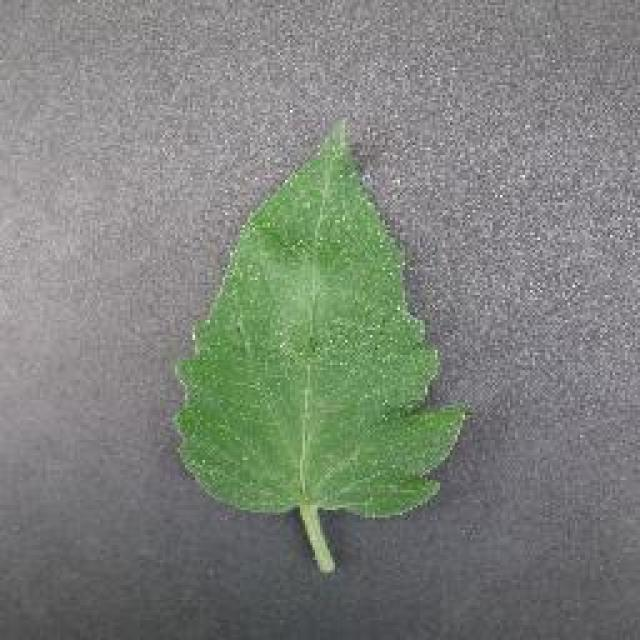Healthy: (160, 115, 475, 583)
